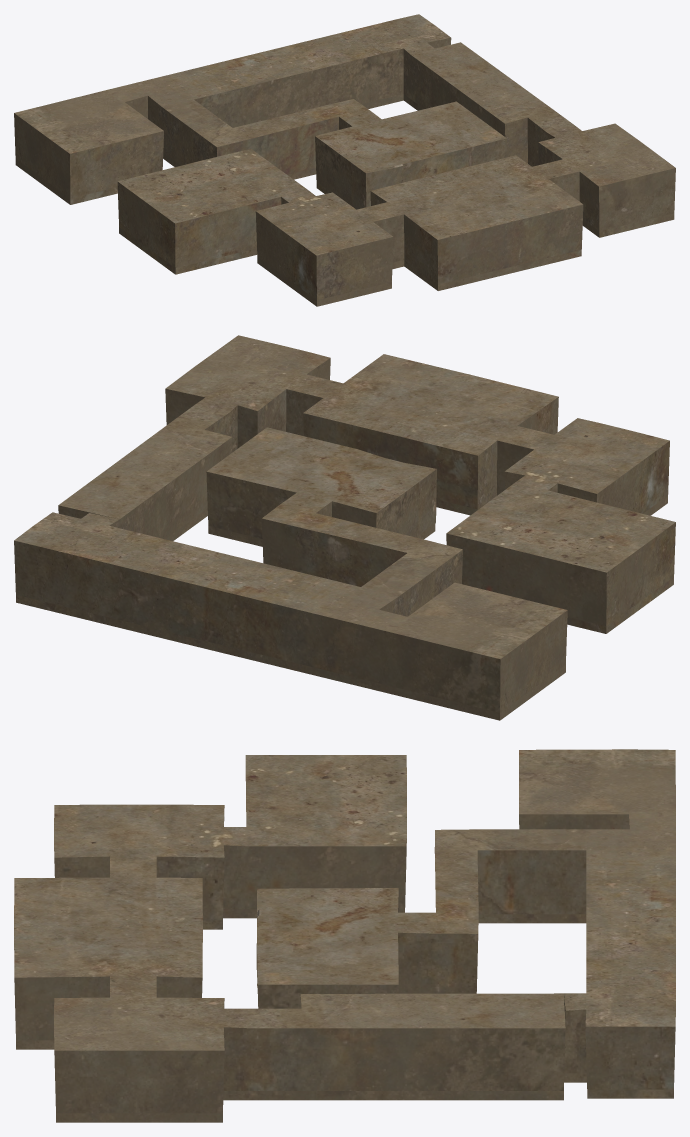
File: mapaPrototipoOPCION2.fbx
The picture shows the model from 3 angles, top to bottom: view 1: azimuth 30°, elevation 25°; view 2: azimuth 150°, elevation 25°; view 3: azimuth 270°, elevation 25°; orthographic projection. The views are drawn at different scales.
Visible parts, largest first — view 1: Cube; view 2: Cube; view 3: Cube.
Part boxes in pixels (left/top/right/bottom): Cube: left=14, top=14, right=675, bottom=306; Cube: left=14, top=335, right=675, bottom=720; Cube: left=14, top=749, right=675, bottom=1122.
Bounding box in the file's own units: 2740 × 319 × 2546.
1 material, 1 textured.
